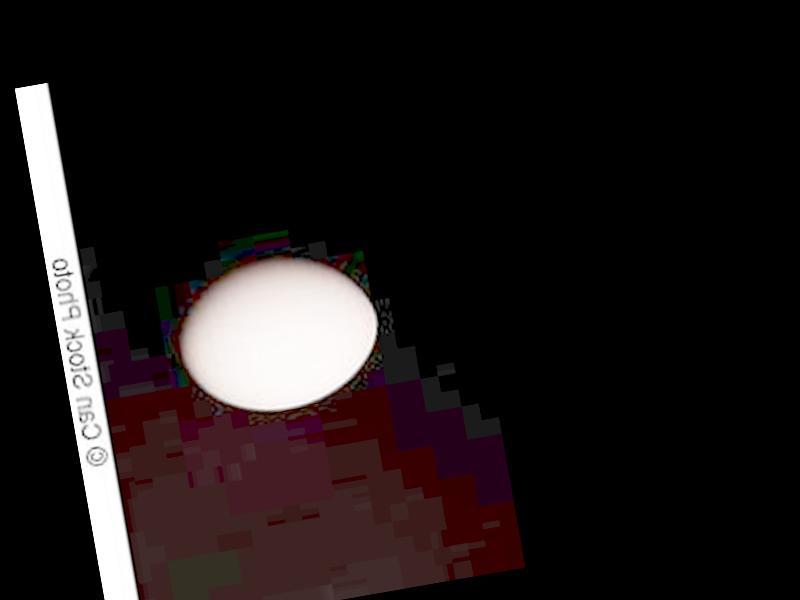Eggs: (166, 246, 388, 425)
